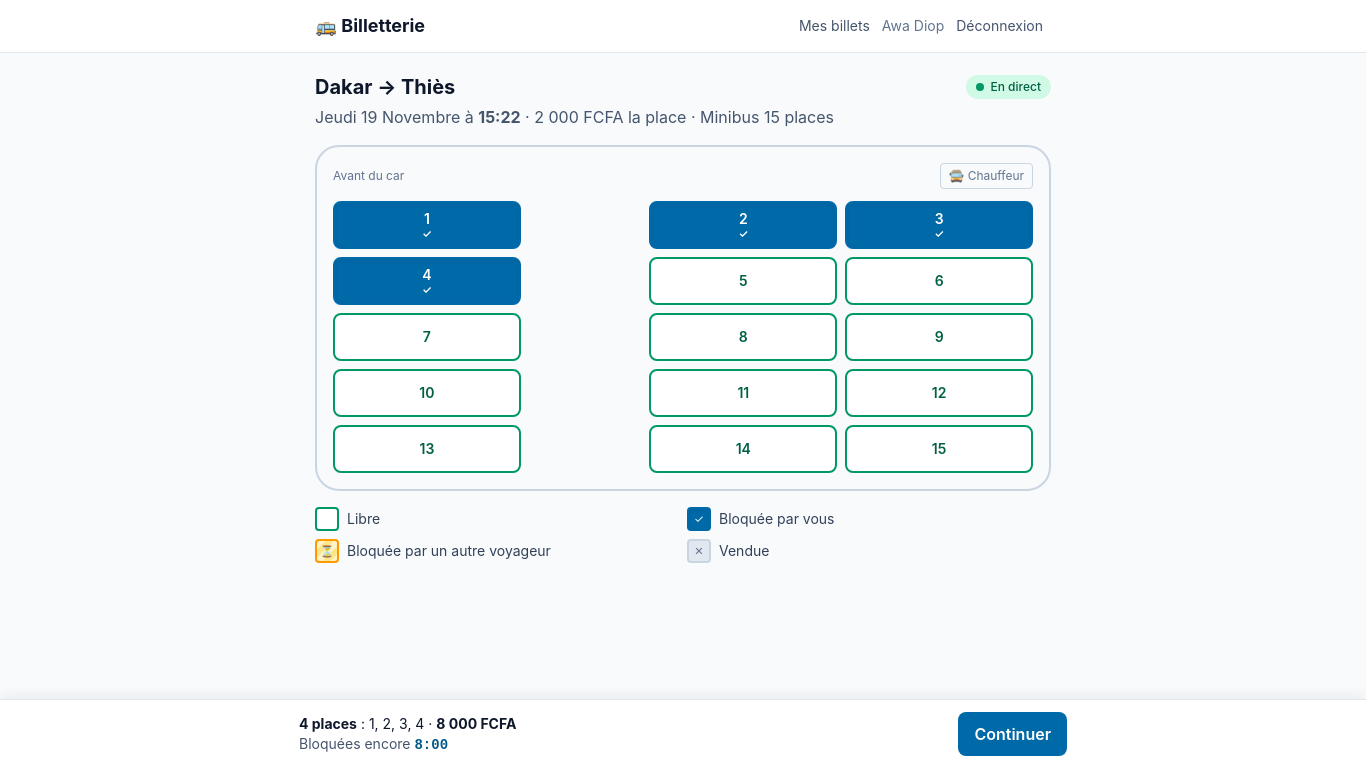
Test: page du plan du car › au-delà de 4 places, le front refuse sans appeler l’API
The width and height of the screenshot is (1366, 768).
Click the button "9": click(939, 337) left=845, top=313, right=1033, bottom=361
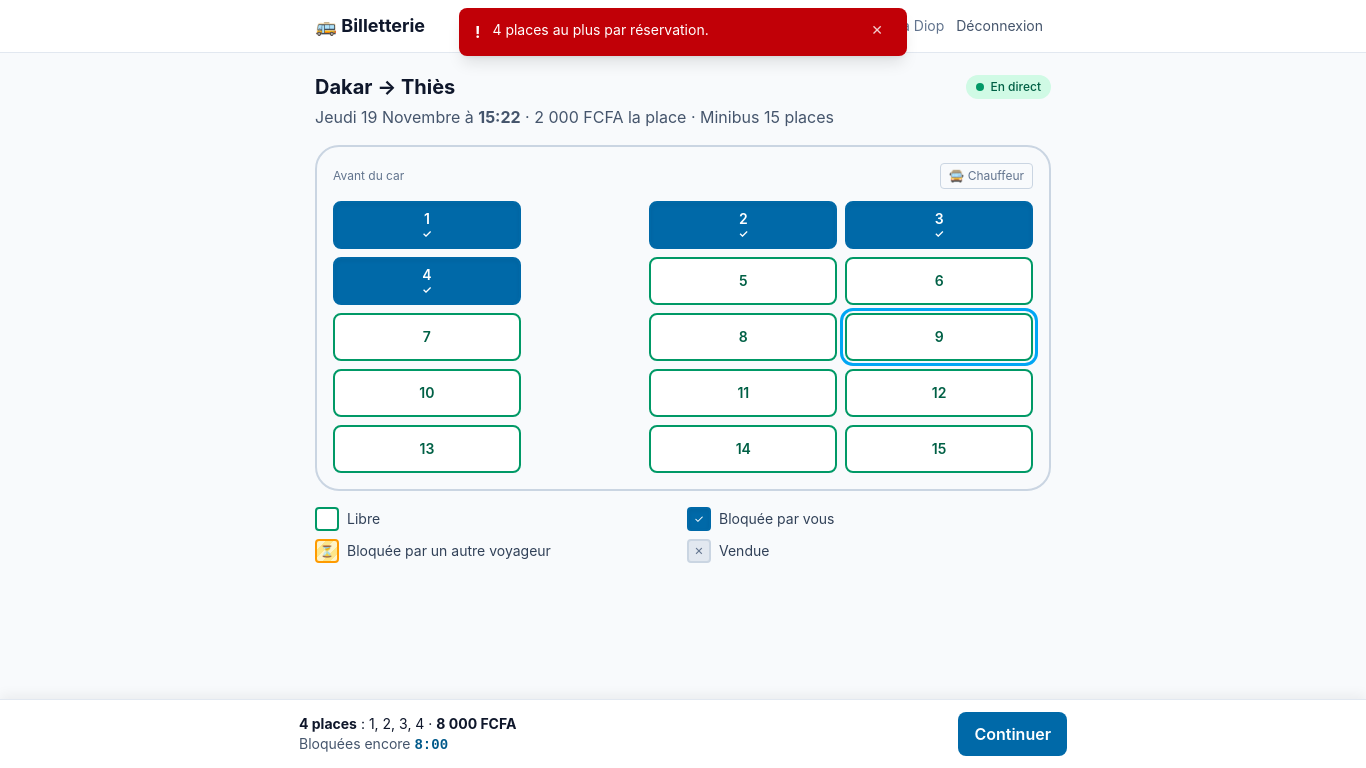
Check: the message "! 4 places au plus par réservation. ✕" is shown, box left=459, top=8, right=907, bottom=56
